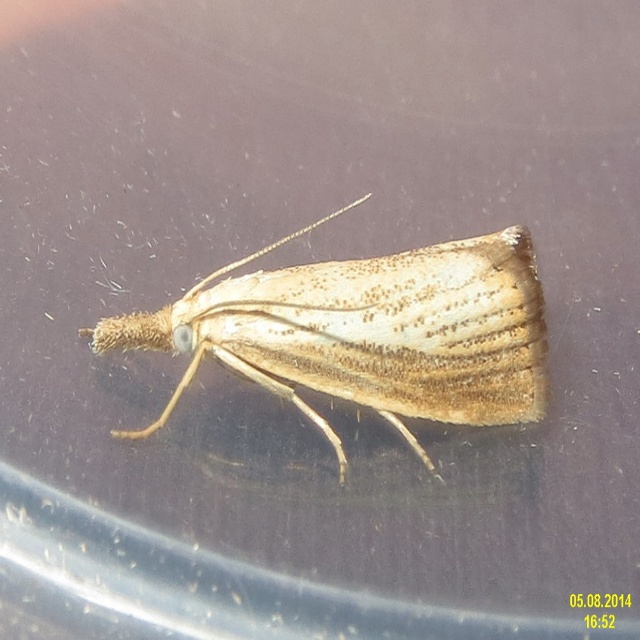Moths and butterflies: (77, 192, 549, 485)
